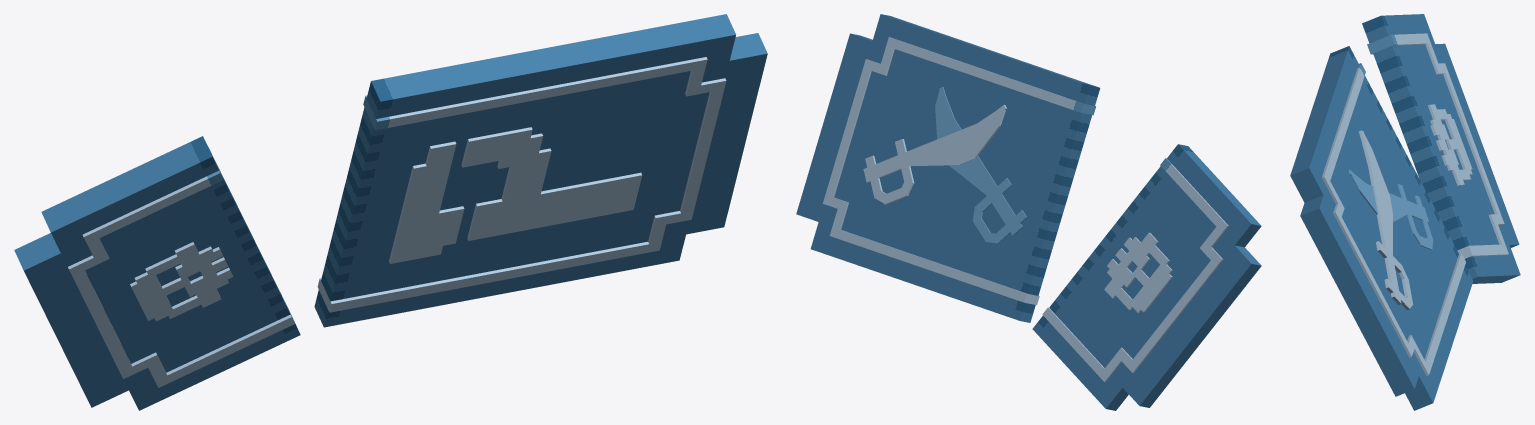
Rendered from PvPRaffle_tier2.gltf.
3 renders of one model, left to right at view 1: azimuth 30°, elevation 25°; view 2: azimuth 150°, elevation 25°; view 3: azimuth 270°, elevation 25°, orthographic. The views are drawn at different scales.
Visible parts, largest first — view 1: ticket_ship_ticket-Local, ticket_ship_tab-Local, icon$$(1)-Local, tab_print-Local; view 2: ticket_ship_ticket-Local, ticket_ship_tab-Local, tab_print-Local, icon$$(1)-Local, sword_left$$(1)-Local, sword_right$$(1)-Local, left_blade02$$(3)-Local; view 3: ticket_ship_ticket-Local, ticket_ship_tab-Local, tab_print-Local, icon$$(1)-Local, sword_left$$(1)-Local, sword_right$$(1)-Local.
Boxes of the visible parts, x1,y1,x2,y2 form: ticket_ship_ticket-Local: (314,14,767,327); ticket_ship_tab-Local: (14,136,300,410); icon$$(1)-Local: (317,57,726,312); tab_print-Local: (68,147,294,387); ticket_ship_ticket-Local: (796,14,1100,322); ticket_ship_tab-Local: (1032,144,1261,410); tab_print-Local: (1042,158,1228,382); icon$$(1)-Local: (823,37,1095,304); sword_left$$(1)-Local: (863,117,994,204); sword_right$$(1)-Local: (937,114,1026,243); left_blade02$$(3)-Local: (949,164,999,201); ticket_ship_ticket-Local: (1290,46,1473,410); ticket_ship_tab-Local: (1362,14,1520,283); tab_print-Local: (1367,33,1508,258); icon$$(1)-Local: (1321,63,1465,375); sword_left$$(1)-Local: (1368,148,1413,310); sword_right$$(1)-Local: (1364,184,1433,250).
Size of the model in its own units: 115 by 59.99 by 42.85.
18 materials, 18 textured.
